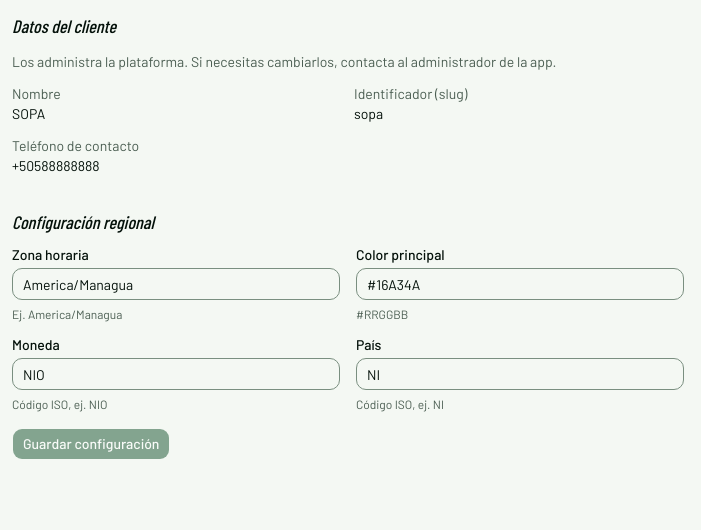
Test: ConfiguracionCliente (portal admin) › un 400 del servidor se muestra sin romper el formulario
Replace the text in the field labelled "Moneda" with "USD": (176, 374) [12,358,340,390]
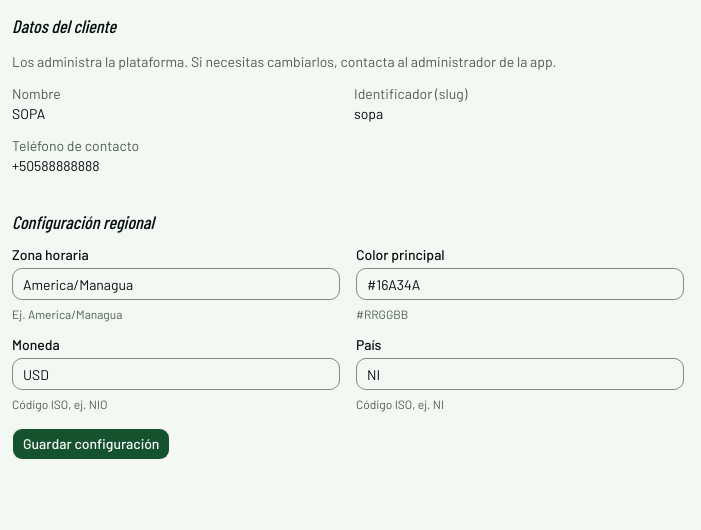
Click the button "Guardar configuración": (91, 444) [12,428,170,460]
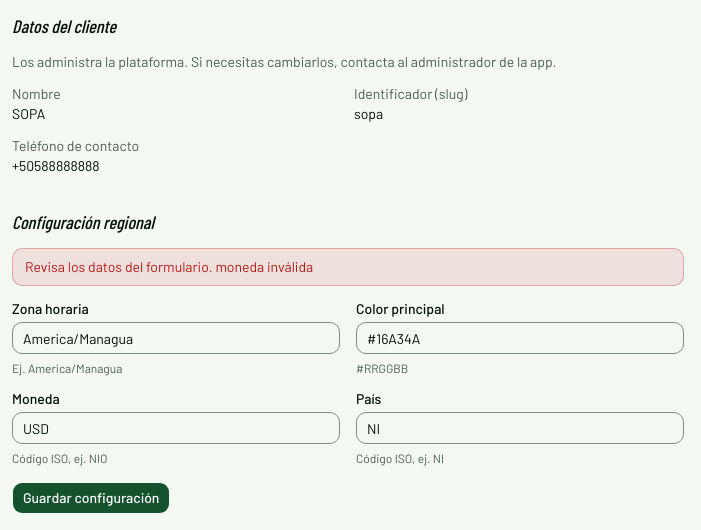
Expected: the message shows "moneda inválida", [25,258,313,275]
